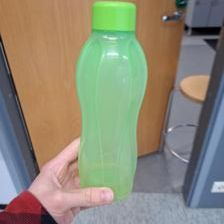bottle: (74, 2, 148, 200)
